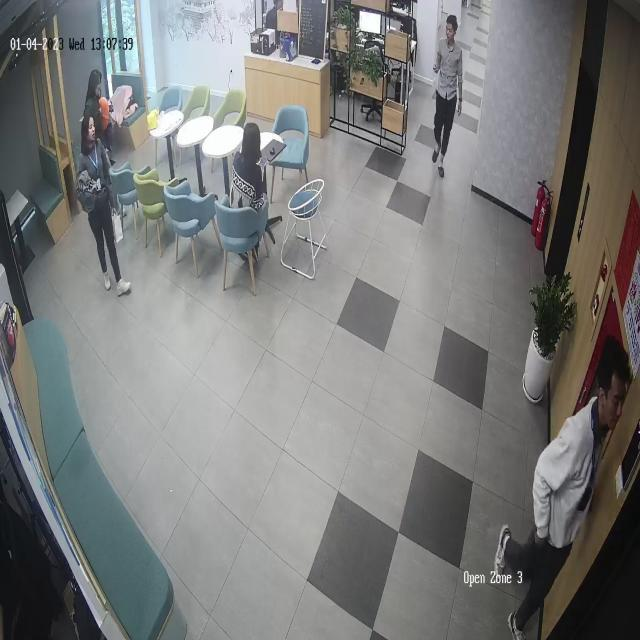person: (493, 333, 633, 640), (74, 113, 132, 296), (229, 122, 279, 259), (432, 13, 464, 178), (81, 68, 114, 161)
